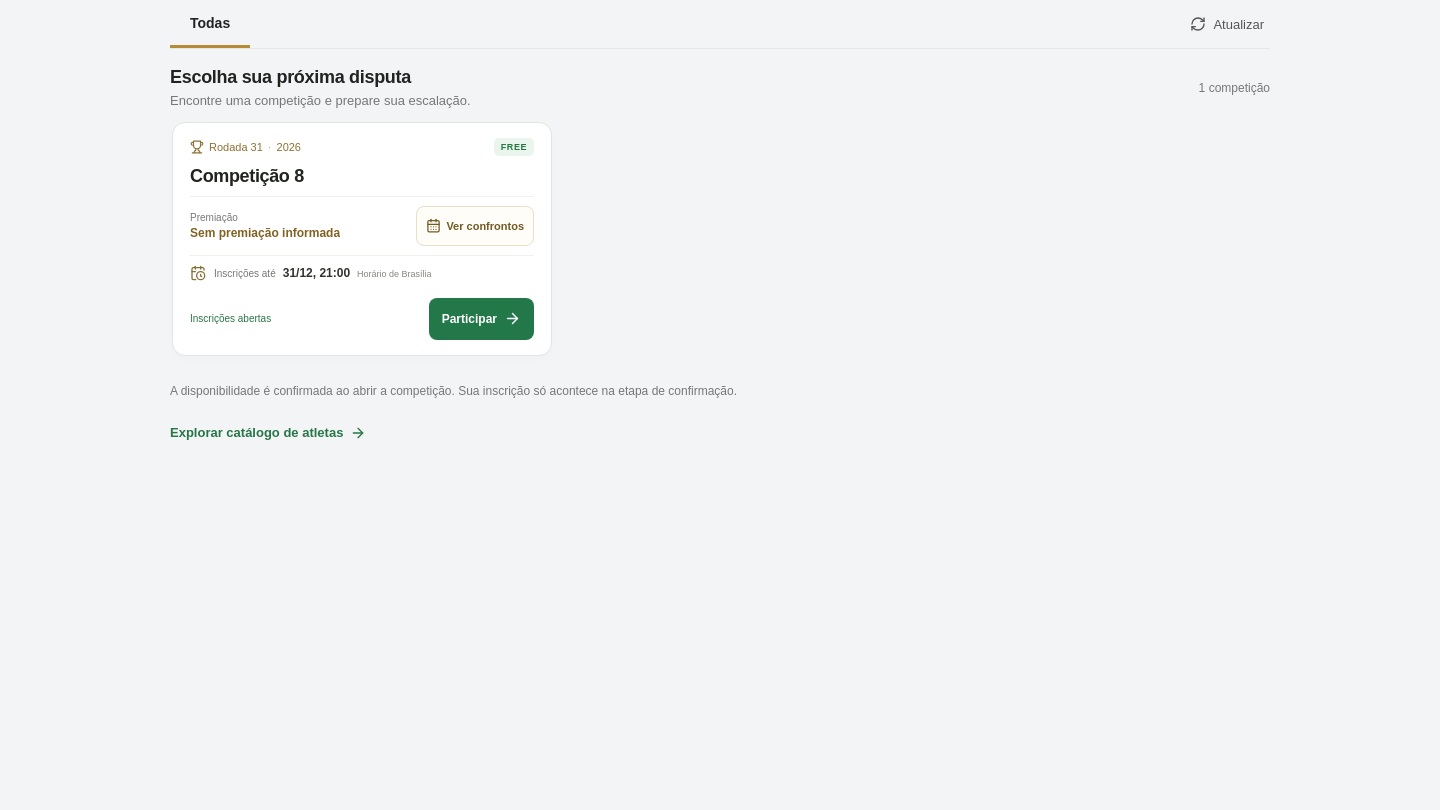
Scenario: mostra erro e permite repetir a consulta
The image size is (1440, 810).
Click the button "Ver confrontos" at (475, 226), box x1=416 y1=206 x2=534 y2=246
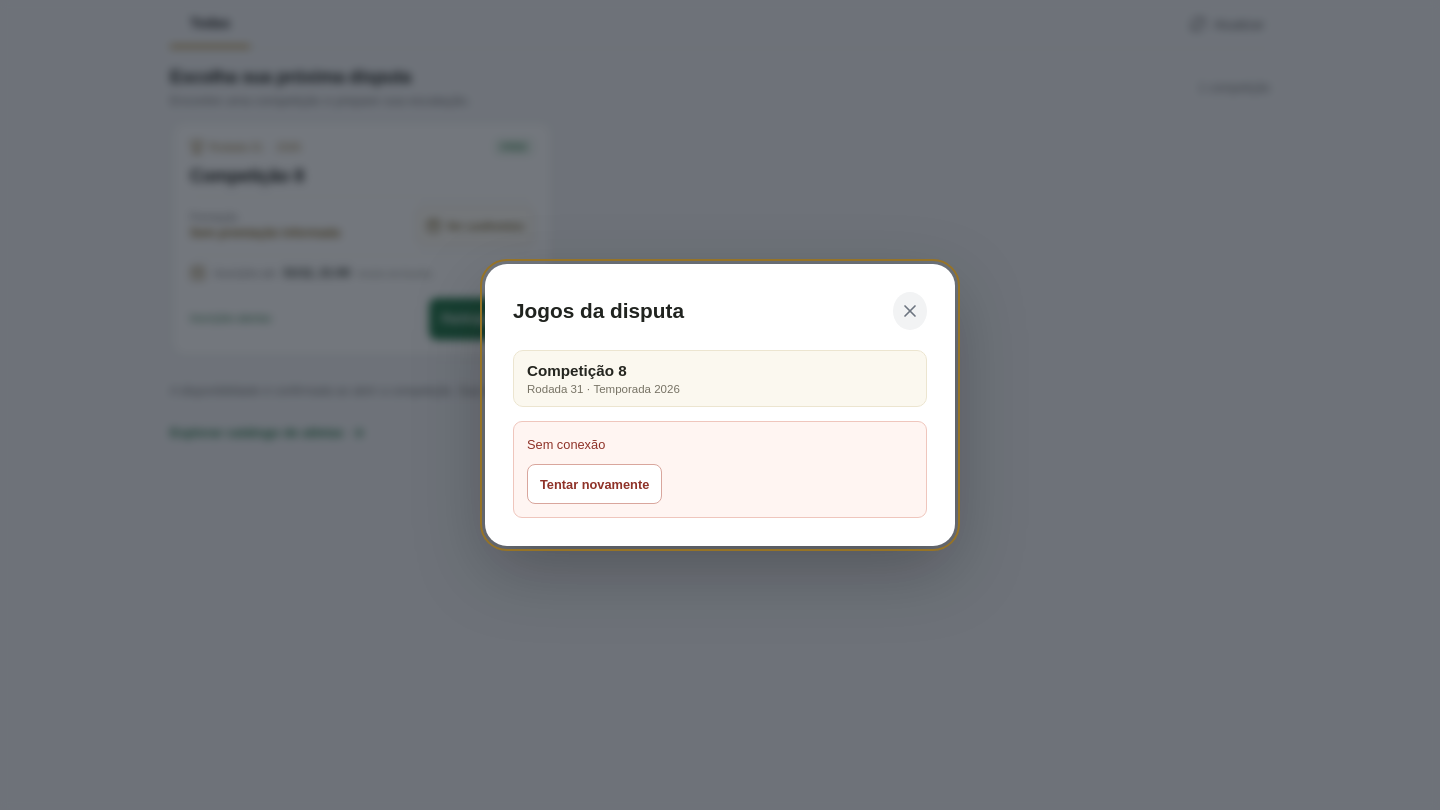
Expected: the message "Sem conexão Tentar novamente" is shown, x1=513 y1=421 x2=927 y2=518
Click the button "Tentar novamente" at (595, 484), box x1=527 y1=464 x2=662 y2=504
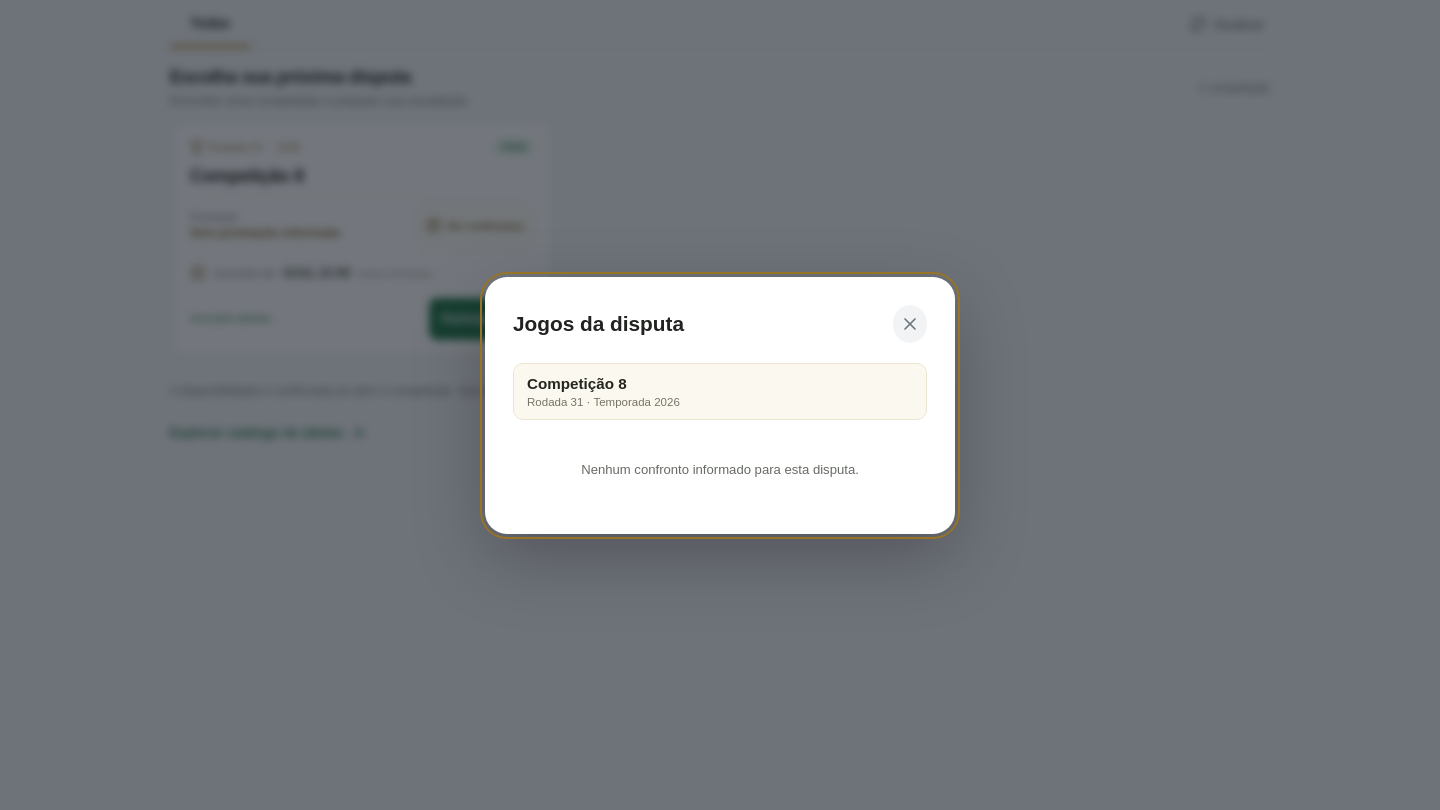
Expected: the text "Nenhum confronto informado para esta disputa." is shown, x1=581 y1=462 x2=859 y2=477
Click the button named "Fechar" at (910, 324), box x1=893 y1=304 x2=927 y2=342
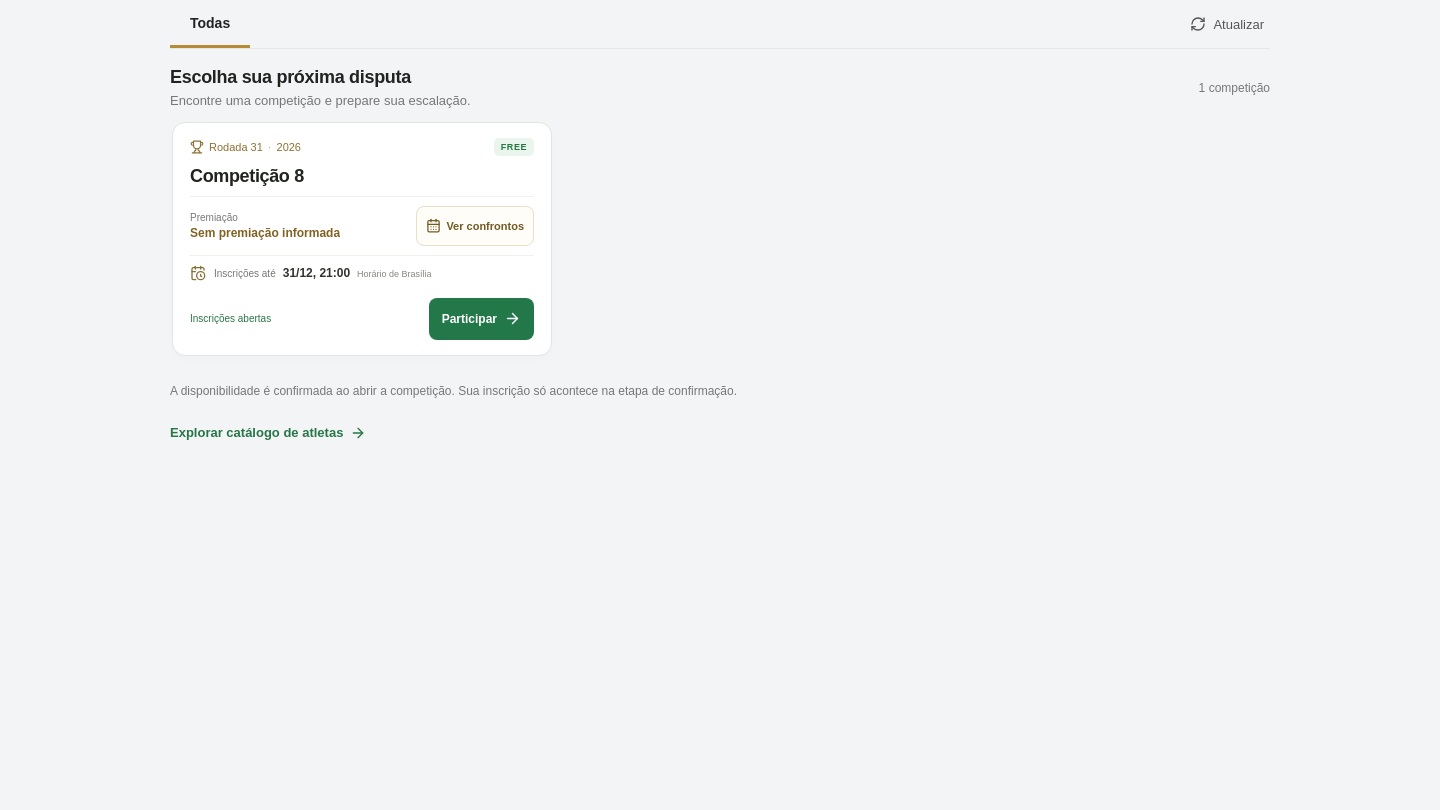
Click the button "Ver confrontos" at (475, 226), box x1=416 y1=206 x2=534 y2=246
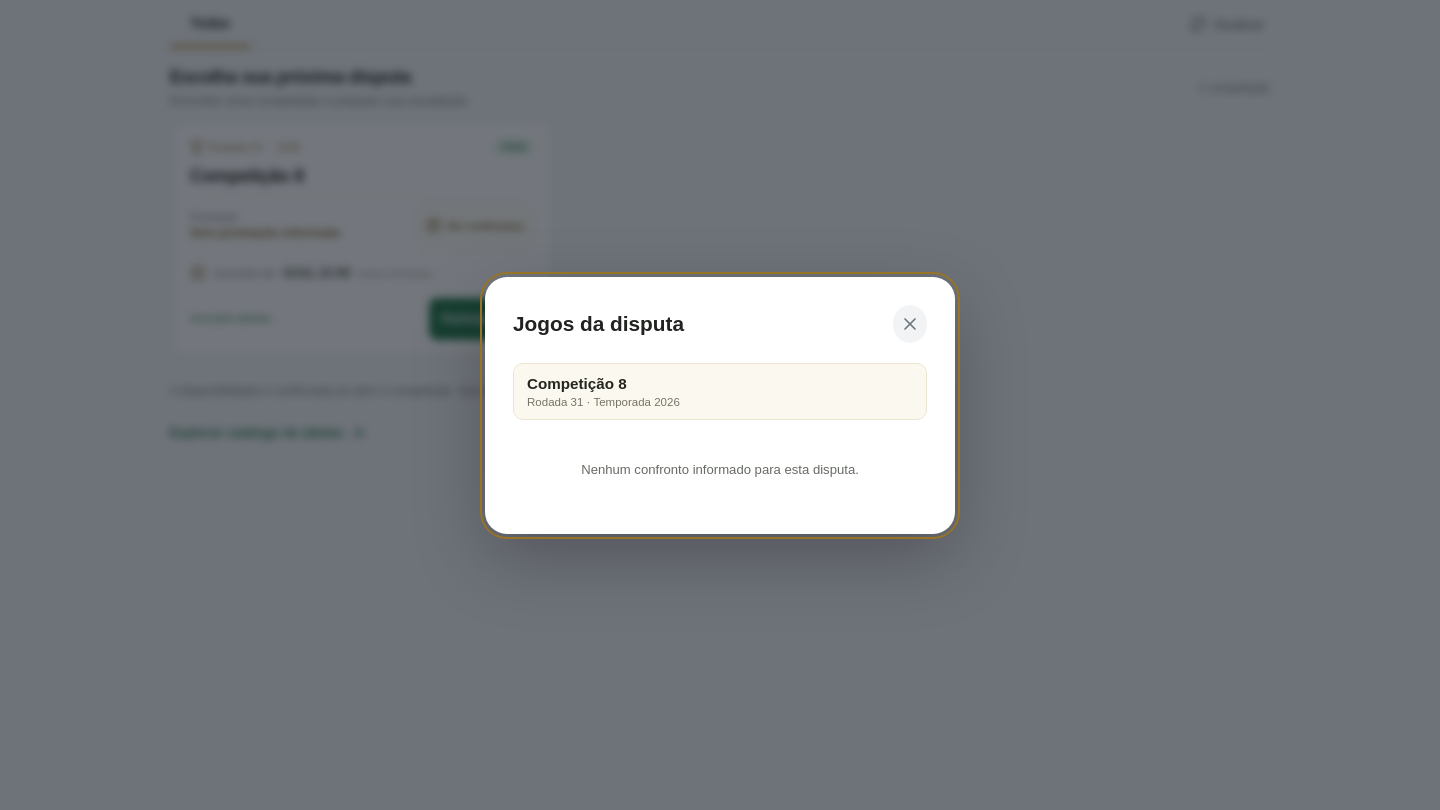
Expected: the text "Nenhum confronto informado para esta disputa." is shown, x1=581 y1=462 x2=859 y2=477
